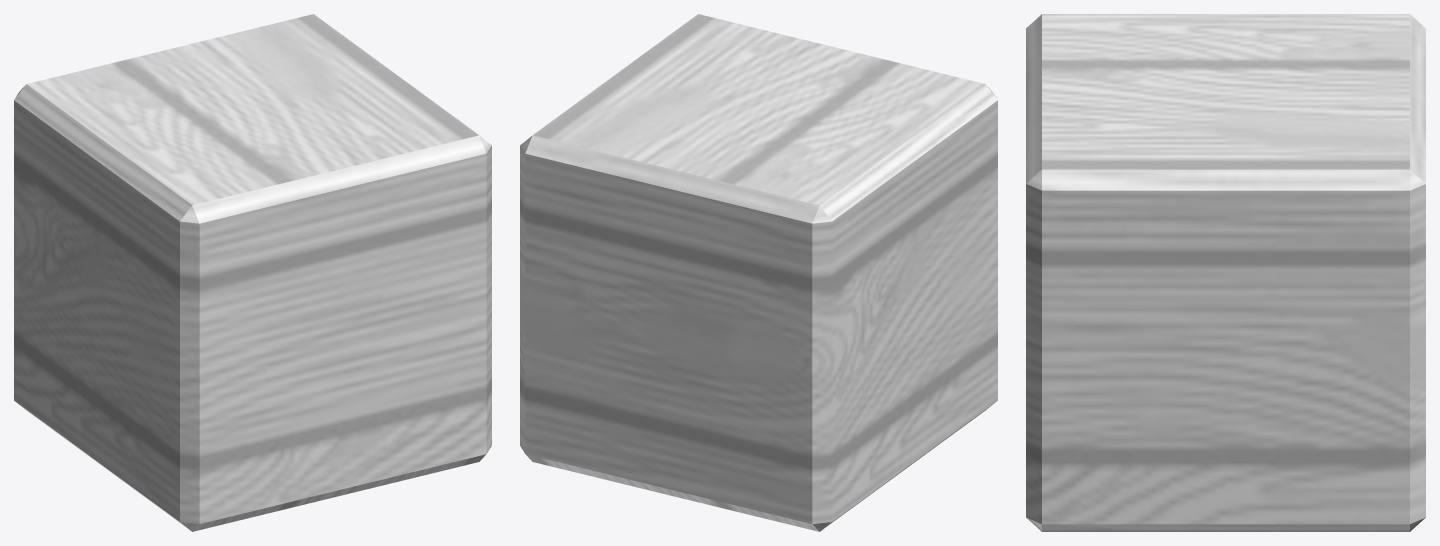
File: block.obj
3 renders of one model, left to right at view 1: azimuth 30°, elevation 25°; view 2: azimuth 150°, elevation 25°; view 3: azimuth 270°, elevation 25°, orthographic. The views are drawn at different scales.
Visible parts, largest first — view 1: Cube; view 2: Cube; view 3: Cube.
Part boxes in pixels (bbox=[...]): Cube: bbox=[14, 14, 491, 531]; Cube: bbox=[520, 14, 997, 531]; Cube: bbox=[1026, 14, 1425, 531].
Bounding box in the file's own units: 2 × 2 × 2.
1 material, 1 textured.
